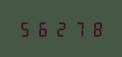eight: (86, 20, 102, 37)
five: (18, 20, 34, 37)
seven: (69, 20, 85, 37)
six: (35, 20, 51, 37)
two: (52, 20, 68, 37)
